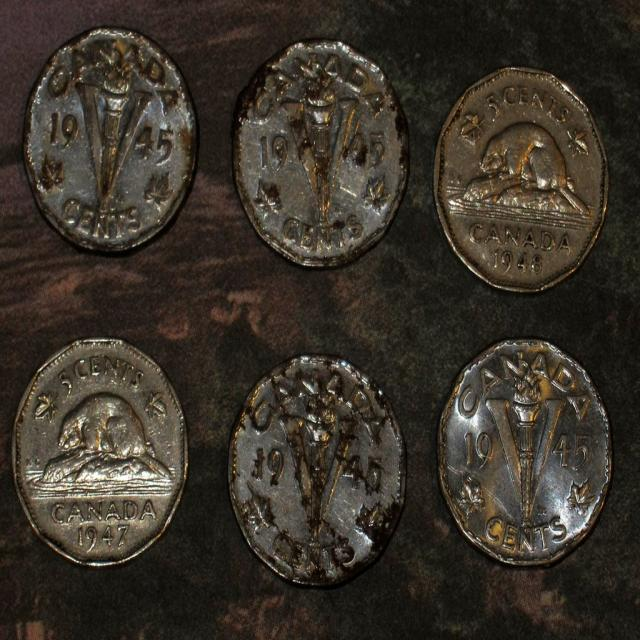Coin: (12, 334, 191, 564), (440, 335, 616, 568), (233, 31, 407, 265), (434, 68, 614, 290), (228, 355, 404, 582), (28, 23, 199, 249)
